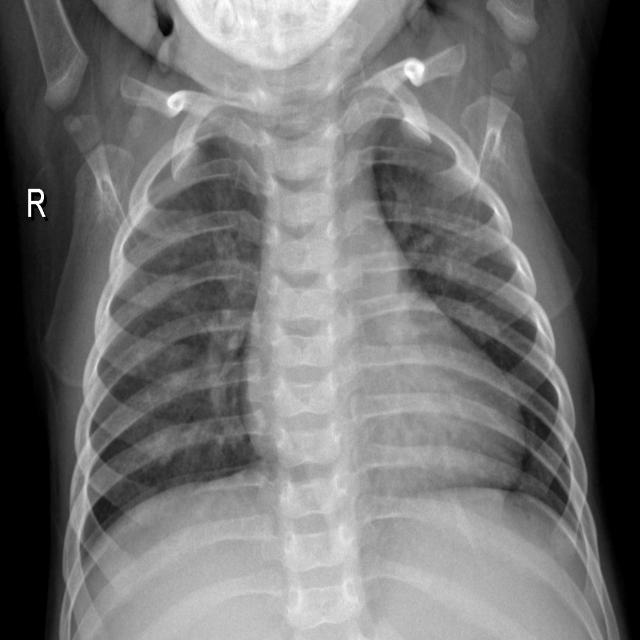normal_lung: (3, 0, 635, 640)
